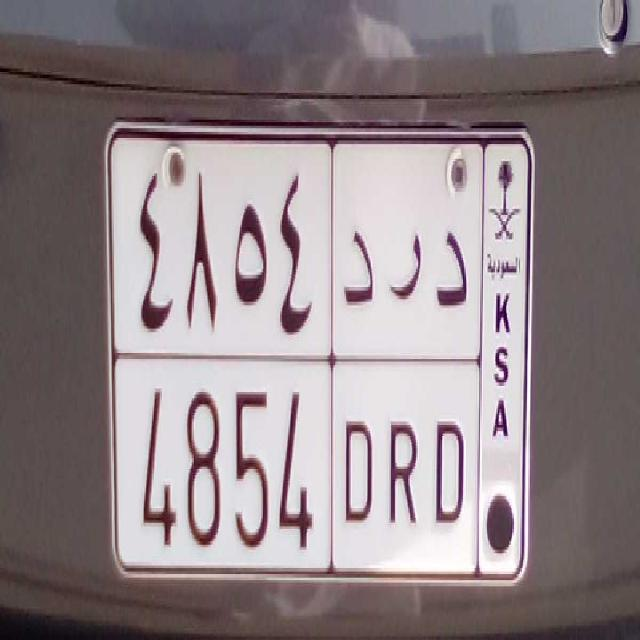license_plate: (114, 352, 478, 574)
